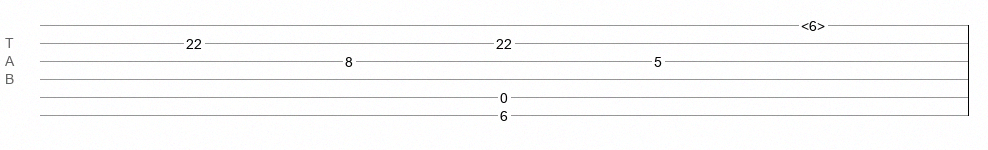0: (500, 90, 508, 100)
22: (186, 36, 202, 46), (496, 36, 512, 46)
5: (654, 54, 662, 64)
6: (500, 108, 508, 118)
8: (345, 54, 353, 64)
harmonic: (801, 18, 825, 28)
